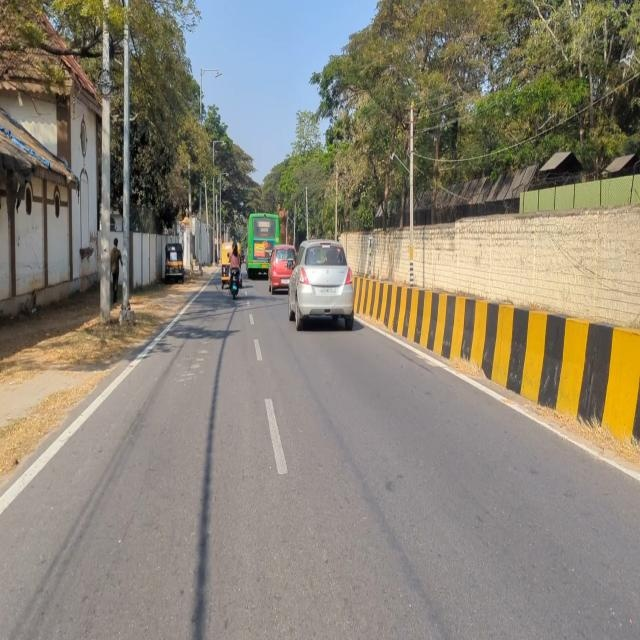bien_nguy_hiem: (180, 222, 186, 232)
